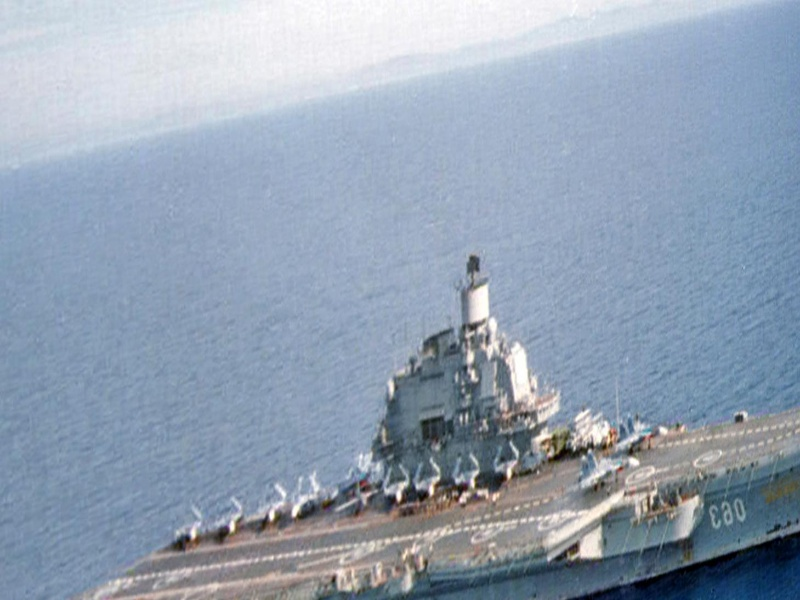carrier: (110, 308, 794, 595)
